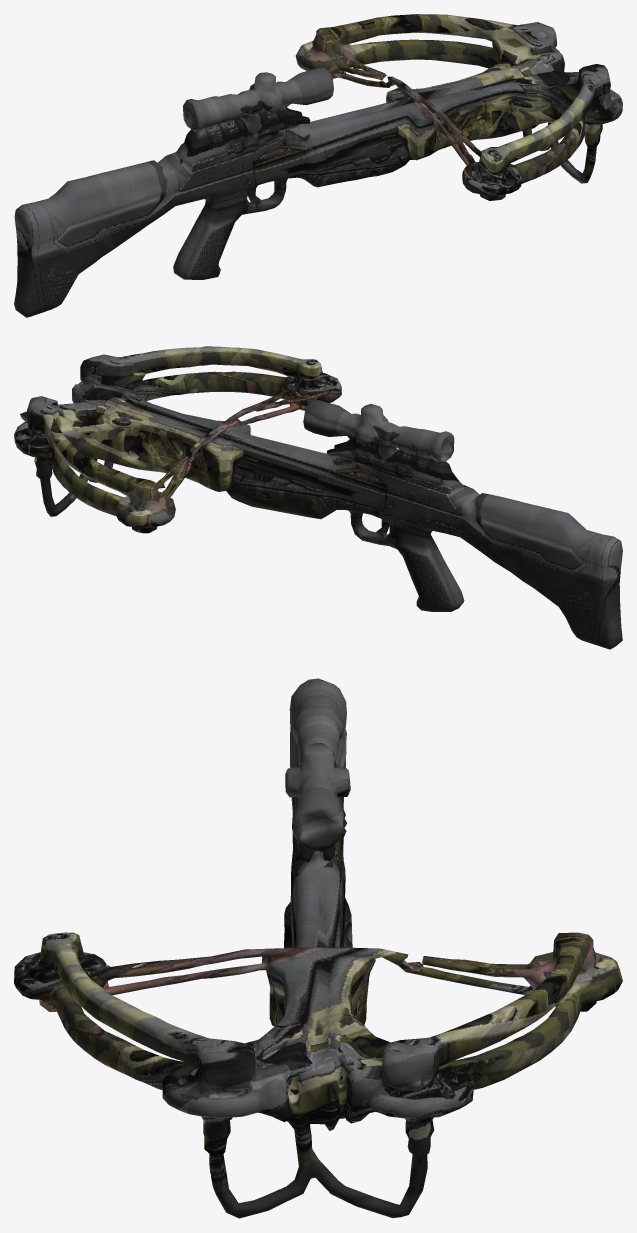
The model's file is crossbow.glb.
The picture shows the model from 3 angles, top to bottom: view 1: azimuth 30°, elevation 25°; view 2: azimuth 150°, elevation 25°; view 3: azimuth 270°, elevation 25°; orthographic projection. The views are drawn at different scales.
Visible parts, largest first — view 1: geometry_0; view 2: geometry_0; view 3: geometry_0.
Boxes of the visible parts, <box> form: geometry_0: <box>14,14,622,317</box>; geometry_0: <box>14,346,622,649</box>; geometry_0: <box>14,678,622,1218</box>.
Bounding box in the file's own units: 0.95 × 0.3012 × 0.5694.
Materials: 1 (1 with a texture image).
